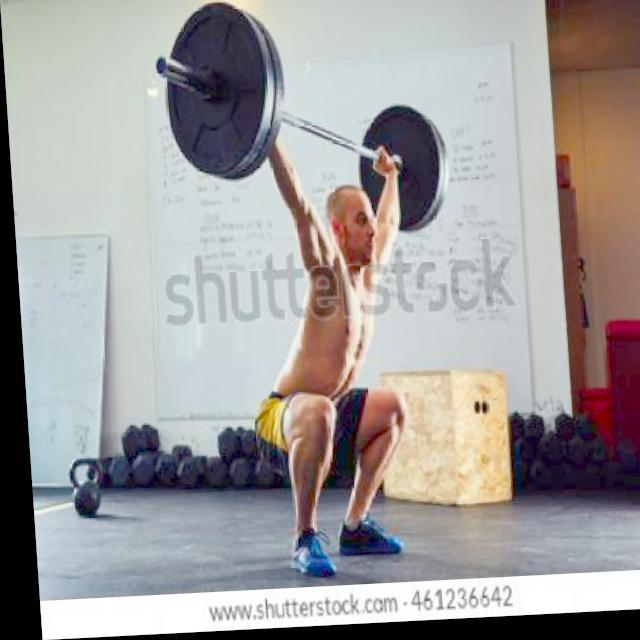barbell: (146, 1, 274, 188)
